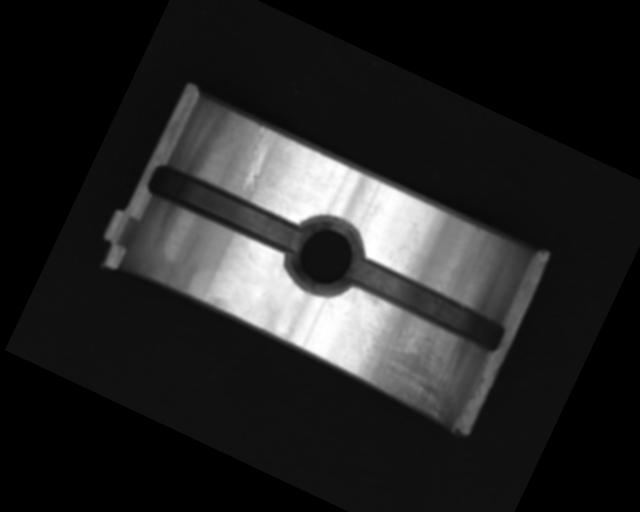gap: (344, 252, 509, 355), (144, 158, 305, 259)
hole: (275, 206, 374, 307)
nick: (232, 123, 281, 194)
scratch: (330, 293, 484, 429)
